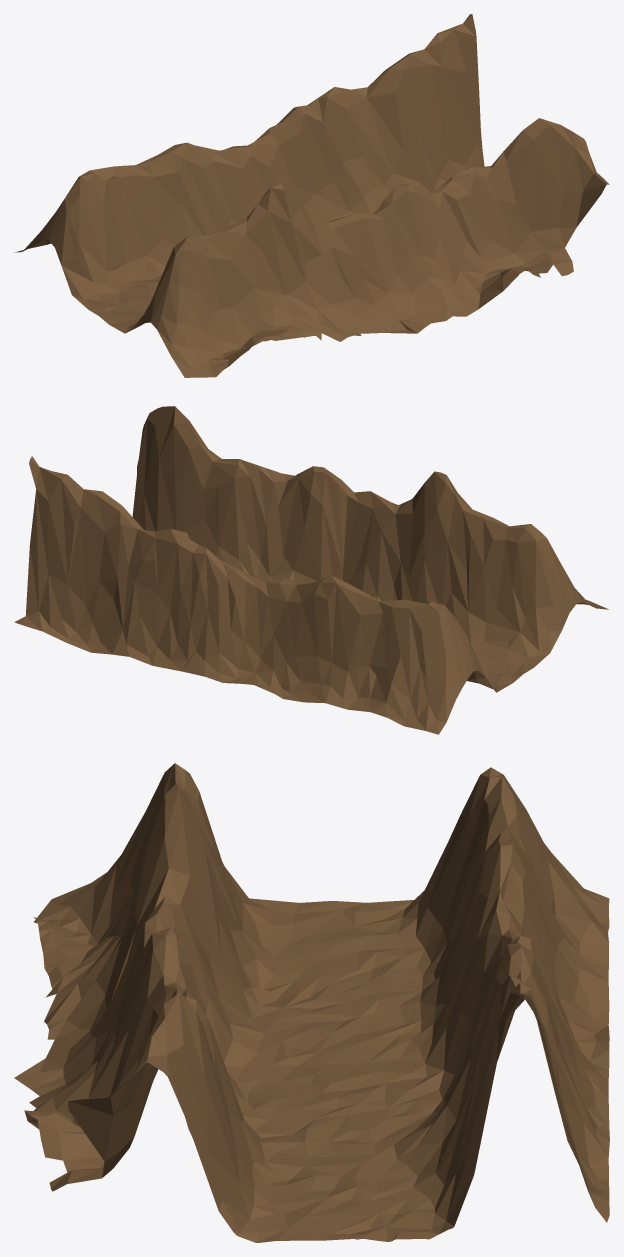
File: riverMirr.fbx
The picture shows the model from 3 angles, top to bottom: view 1: azimuth 30°, elevation 25°; view 2: azimuth 150°, elevation 25°; view 3: azimuth 270°, elevation 25°; orthographic projection. The views are drawn at different scales.
Parts seen in each view (by area): view 1: LVL1CH1.001; view 2: LVL1CH1.001; view 3: LVL1CH1.001.
Boxes of the visible parts, left/top/right/bottom form: LVL1CH1.001: left=14, top=14, right=609, bottom=377; LVL1CH1.001: left=14, top=406, right=608, bottom=734; LVL1CH1.001: left=14, top=763, right=609, bottom=1242.
Bounding box in the file's own units: 12954 × 4490 × 9466.
